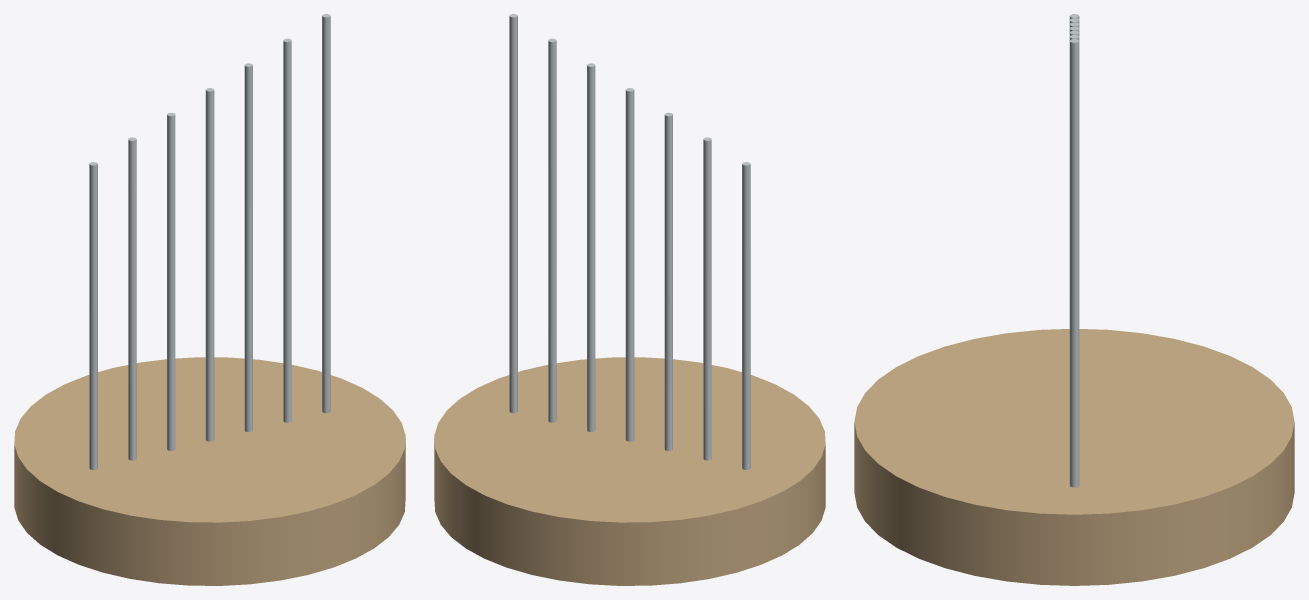
The model's file is bookbinding-and-paper-mill-sewing-needle-stand-4c8ec439__30565.glb.
3 views of the same model, side by side, from view 1: azimuth 30°, elevation 25°; view 2: azimuth 150°, elevation 25°; view 3: azimuth 270°, elevation 25° (orthographic). The views are drawn at different scales.
Parts seen in each view (by area): view 1: sewing-needle-stand; view 2: sewing-needle-stand; view 3: sewing-needle-stand.
Boxes of the visible parts, x1,y1,x2,y2 form: sewing-needle-stand: (14,14,405,585); sewing-needle-stand: (434,14,825,585); sewing-needle-stand: (854,14,1294,585).
Size of the model in its own units: 0.14 by 0.181 by 0.14.
